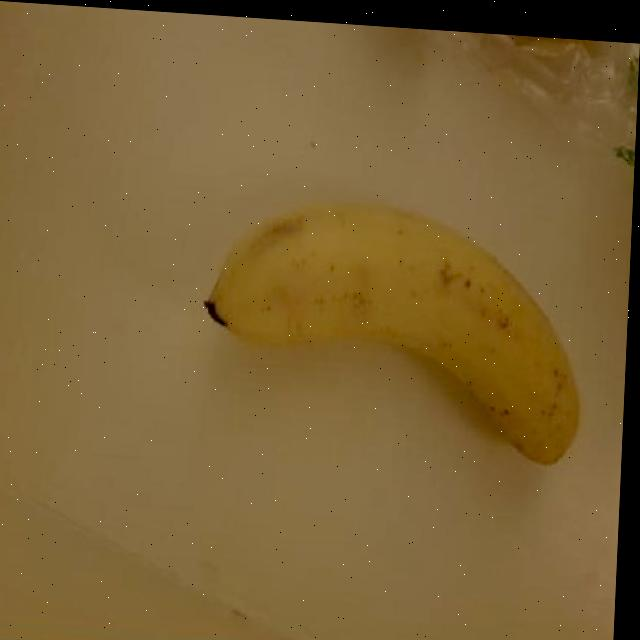banana: (197, 191, 599, 476)
